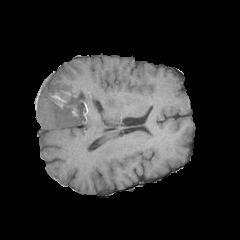glioma: (36, 74, 94, 129)
